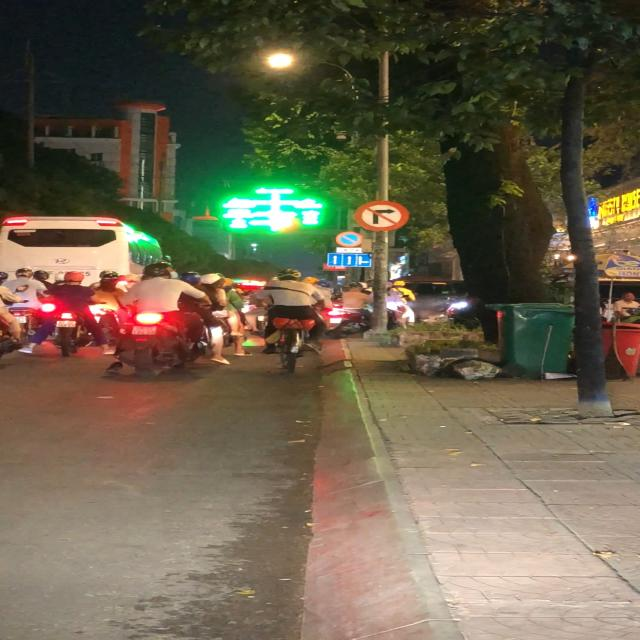Bien bao cam do xe: (333, 230, 365, 247)
Bien bao cam re phai: (352, 200, 412, 233)
